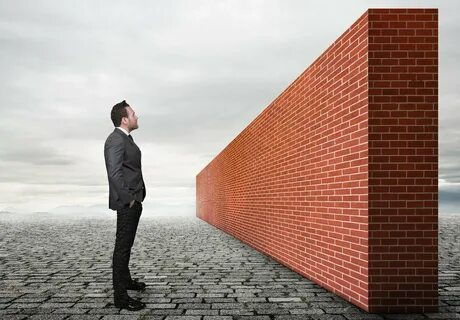awake: (103, 99, 148, 311)
